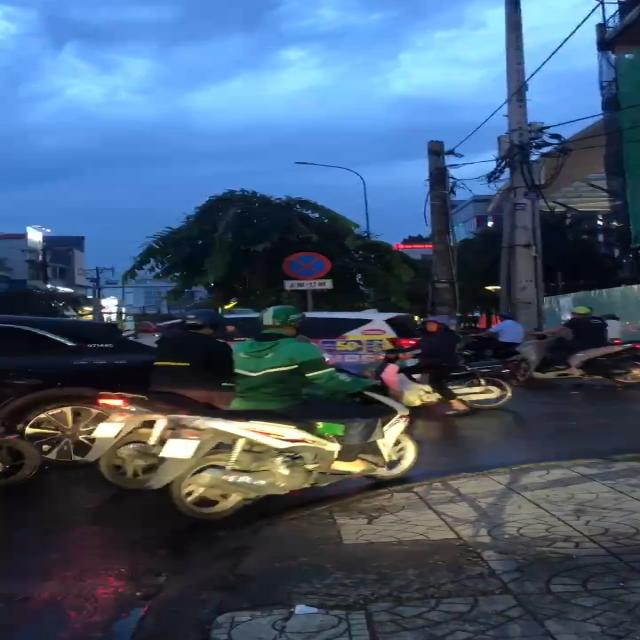Bien bao cam dung xe va do xe: (279, 247, 332, 280)
